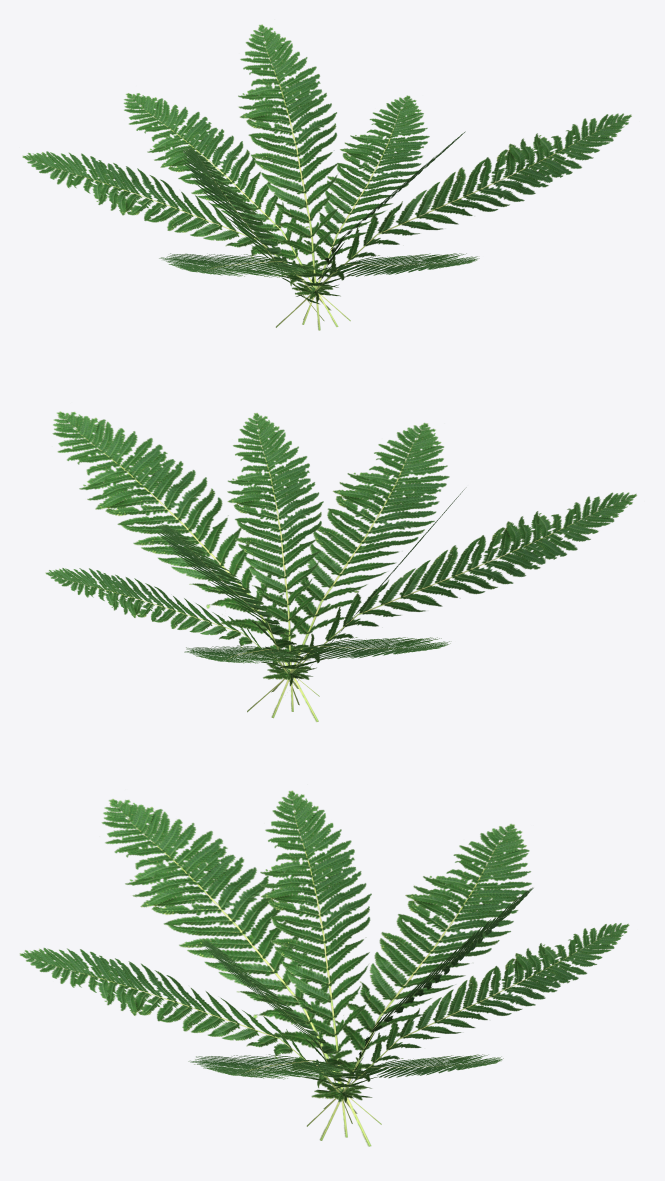
The model's file is stklib_fern_a_b.glb.
The picture shows the model from 3 angles, top to bottom: view 1: azimuth 30°, elevation 25°; view 2: azimuth 150°, elevation 25°; view 3: azimuth 270°, elevation 25°; orthographic projection. The views are drawn at different scales.
Visible parts, largest first — view 1: stktex_fern_diff_a.png__; view 2: stktex_fern_diff_a.png__; view 3: stktex_fern_diff_a.png__.
Part boxes in pixels (left/top/right/bottom): stktex_fern_diff_a.png__: left=22, top=24, right=631, bottom=330; stktex_fern_diff_a.png__: left=45, top=411, right=636, bottom=721; stktex_fern_diff_a.png__: left=19, top=790, right=629, bottom=1146.
Size of the model in its own units: 4.79 by 1.91 by 4.17.
Materials: 1 (1 with a texture image).
